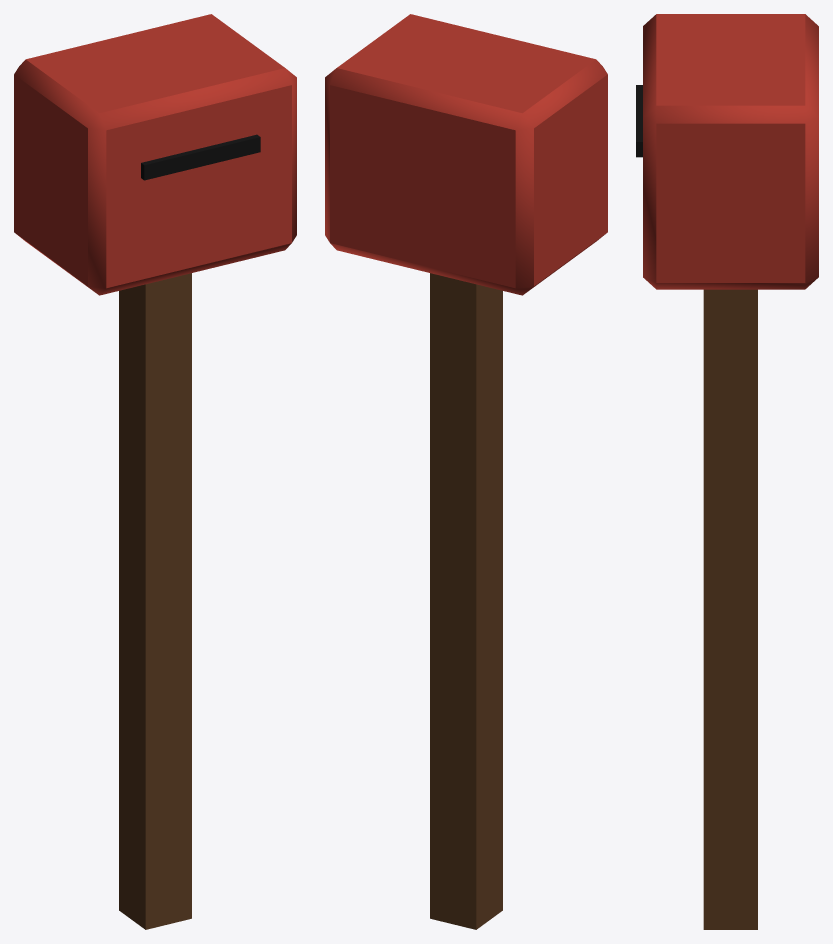
File: mailbox.glb
3 views of the same model, side by side, from view 1: azimuth 30°, elevation 25°; view 2: azimuth 150°, elevation 25°; view 3: azimuth 270°, elevation 25° (orthographic).
Visible parts, largest first — view 1: Mailbox; view 2: Mailbox; view 3: Mailbox.
Part boxes in pixels (<box>): Mailbox: <box>14,14,296,929</box>; Mailbox: <box>325,14,607,929</box>; Mailbox: <box>636,14,818,929</box>.
Size of the model in its own units: 0.36 by 1.4 by 0.27.
